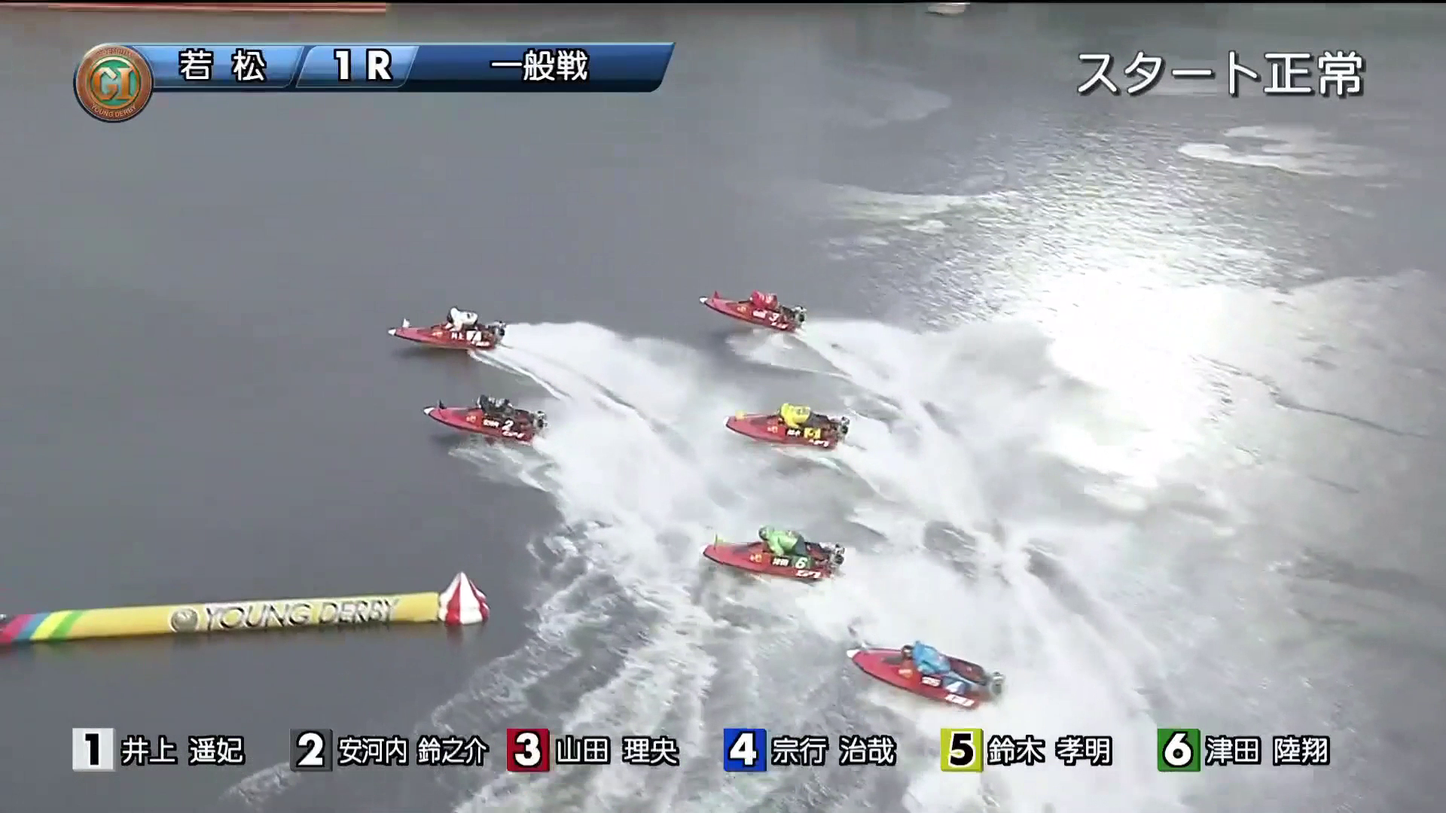１号艇: (424, 283, 495, 336)
２号艇: (425, 370, 554, 431)
３号艇: (732, 268, 830, 320)
４号艇: (728, 508, 862, 573)
５号艇: (879, 651, 1003, 706)
６号艇: (741, 357, 841, 437)
